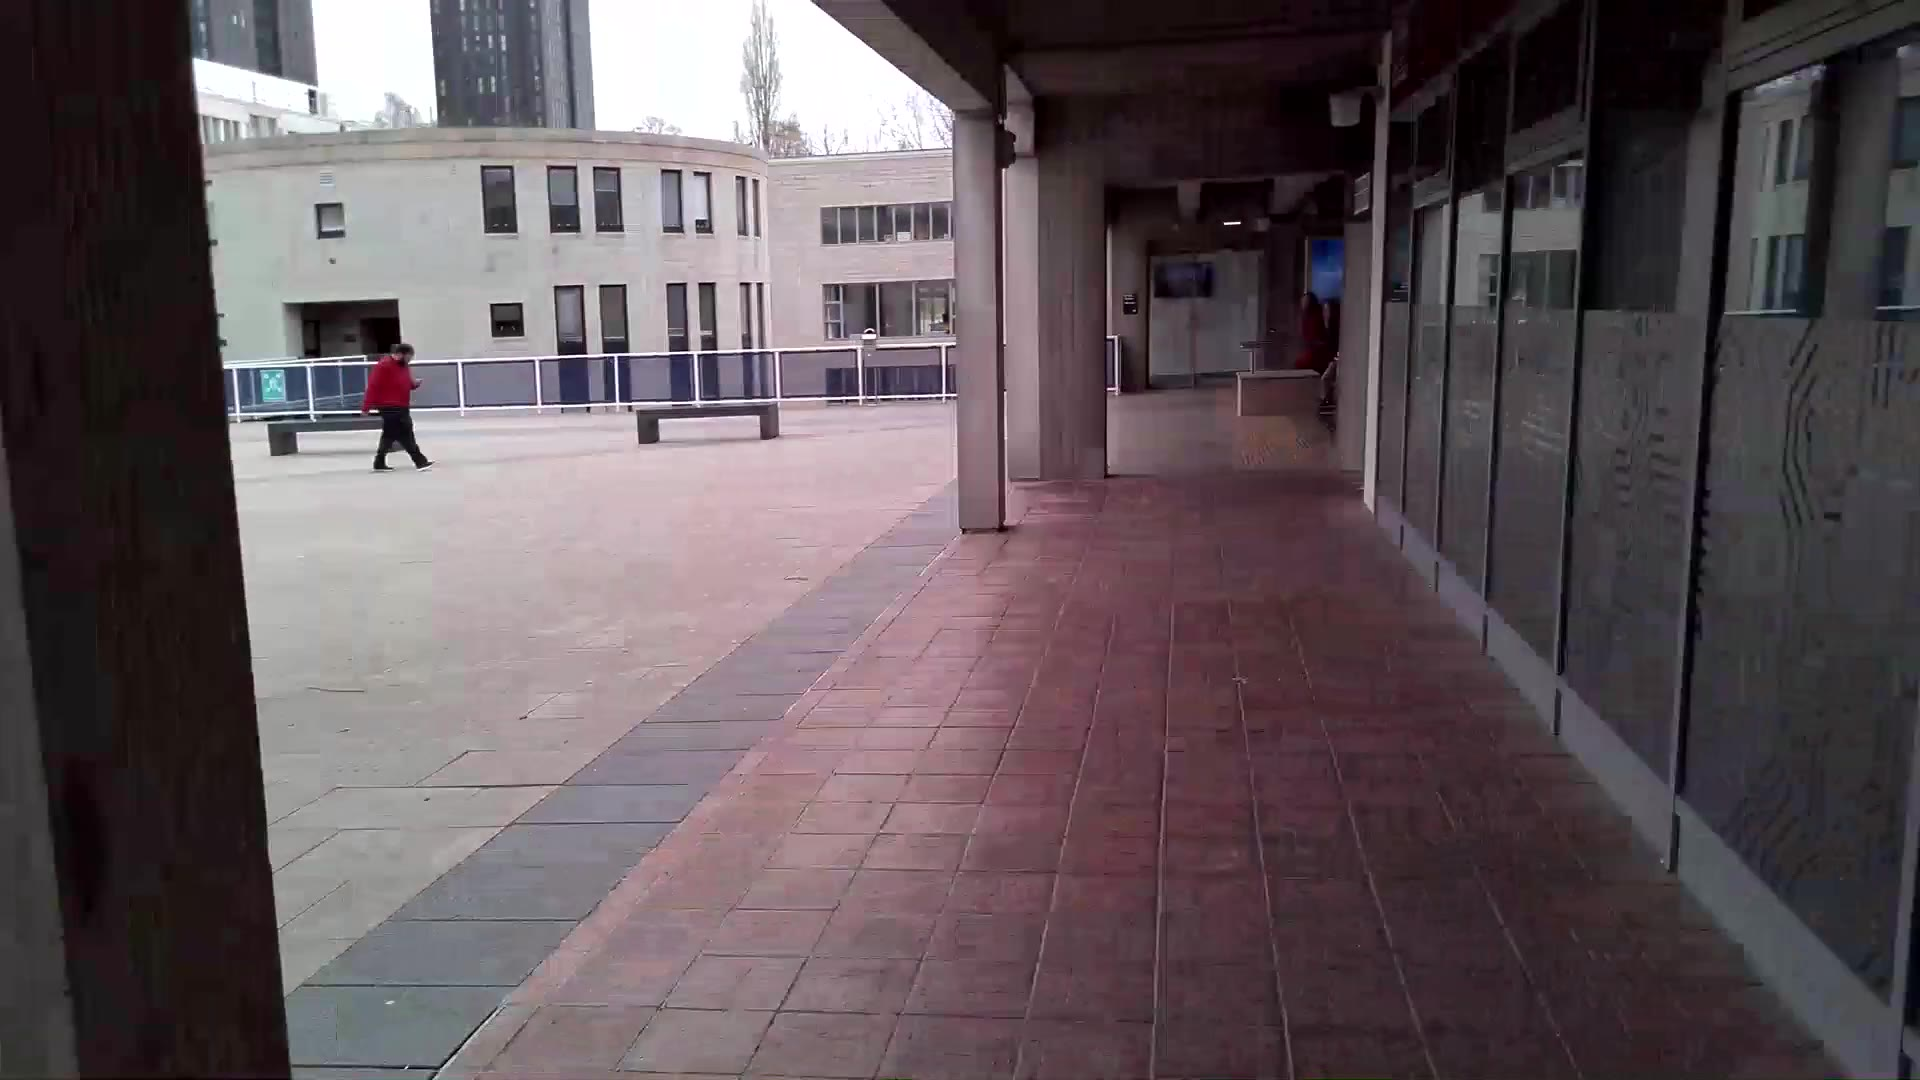Bench: (632, 403, 793, 447)
Person: (357, 342, 432, 477)
